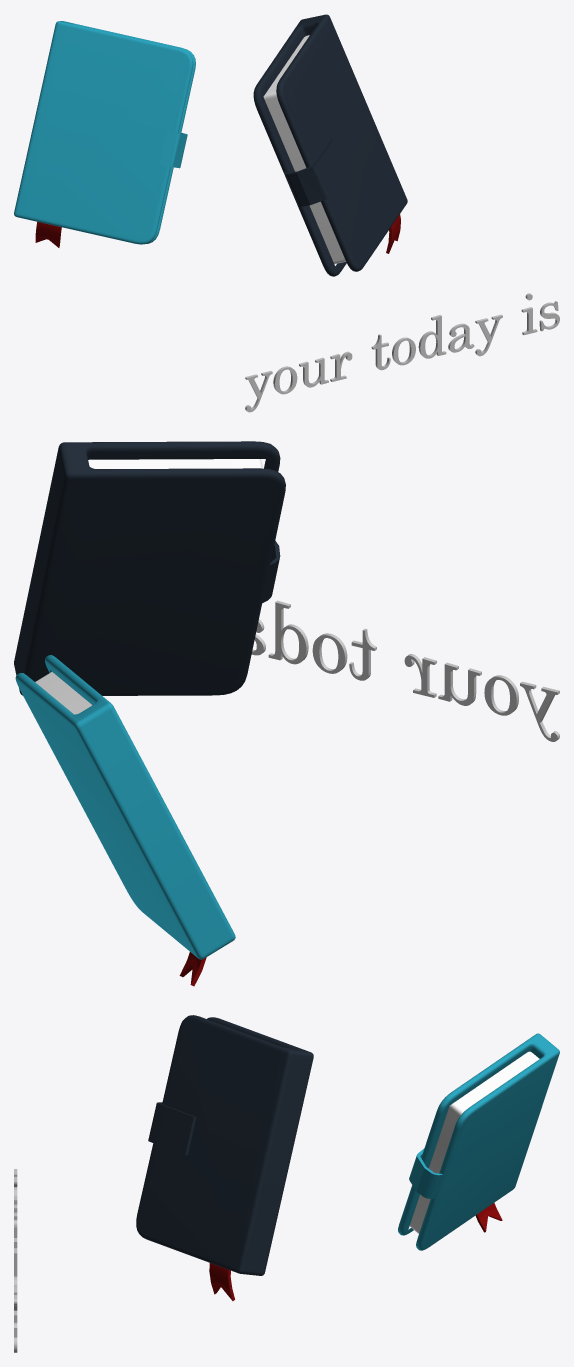
3 renders of one model, top to bottom at view 1: azimuth 30°, elevation 25°; view 2: azimuth 150°, elevation 25°; view 3: azimuth 270°, elevation 25°, orthographic. The views are drawn at different scales.
Parts seen in each view (by area): view 1: Box009, Box002, TextPlus001, book; view 2: Box002, Box009, TextPlus001, book, book001; view 3: Box002, Box009, book001, TextPlus001, Box006.
Part boxes in pixels (x1=…): Box009: x1=14, y1=21, x2=195, y2=244; Box002: x1=253, y1=14, x2=407, y2=276; TextPlus001: x1=245, y1=293, x2=559, y2=412; book: x1=263, y1=35, x2=345, y2=264; Box002: x1=14, y1=441, x2=285, y2=695; Box009: x1=15, y1=655, x2=235, y2=959; TextPlus001: x1=251, y1=600, x2=559, y2=741; book: x1=88, y1=459, x2=262, y2=468; book001: x1=35, y1=672, x2=92, y2=714; Box002: x1=136, y1=1015, x2=313, y2=1275; Box009: x1=398, y1=1033, x2=559, y2=1250; book001: x1=409, y1=1051, x2=539, y2=1233; TextPlus001: x1=14, y1=1169, x2=17, y2=1352; Box006: x1=209, y1=1263, x2=234, y2=1300.
Size of the model in its own units: 128 by 99.87 by 182.
